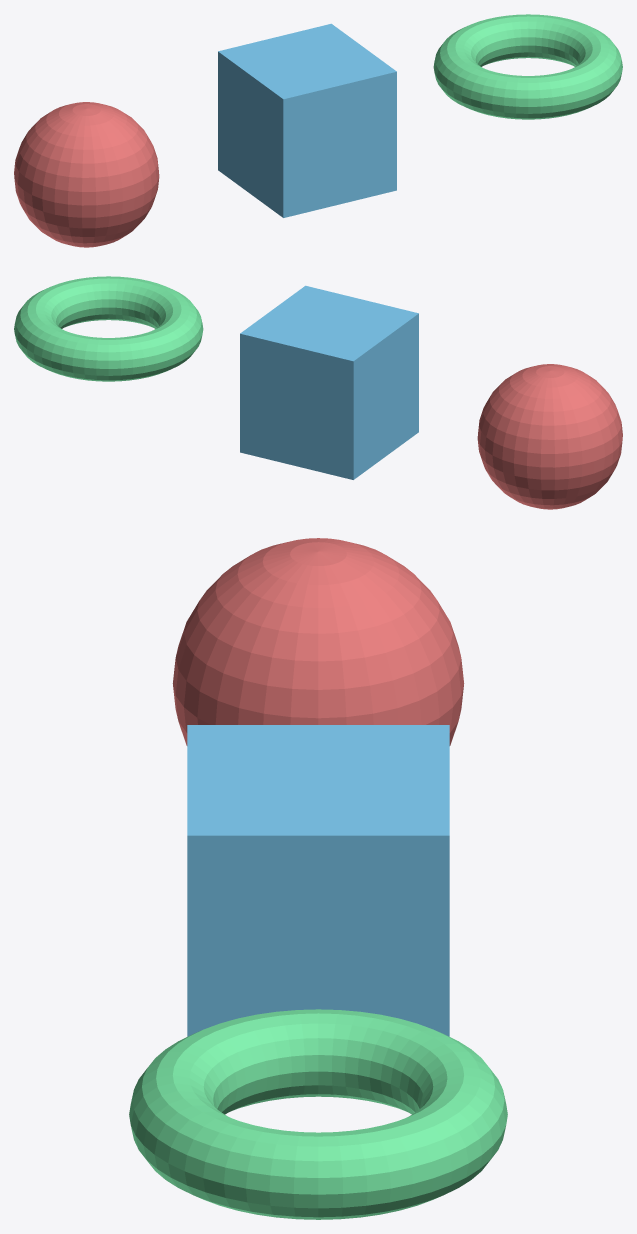
The model's file is simple_meshes.glb.
3 renders of one model, top to bottom at view 1: azimuth 30°, elevation 25°; view 2: azimuth 150°, elevation 25°; view 3: azimuth 270°, elevation 25°, orthographic. The views are drawn at different scales.
Visible parts, largest first — view 1: Cube, Sphere, Torus; view 2: Cube, Sphere, Torus; view 3: Cube, Torus, Sphere.
Part boxes in pixels (box(x1,y1,x2,y2)): Cube: box(218, 23, 396, 217); Sphere: box(14, 102, 159, 247); Torus: box(433, 14, 622, 119); Cube: box(240, 285, 418, 479); Sphere: box(477, 364, 622, 509); Torus: box(14, 276, 203, 381); Cube: box(187, 725, 449, 1036); Torus: box(129, 1009, 507, 1219); Sphere: box(172, 538, 464, 745).
Bounding box in the file's own units: 9.3 × 2 × 2.6.
